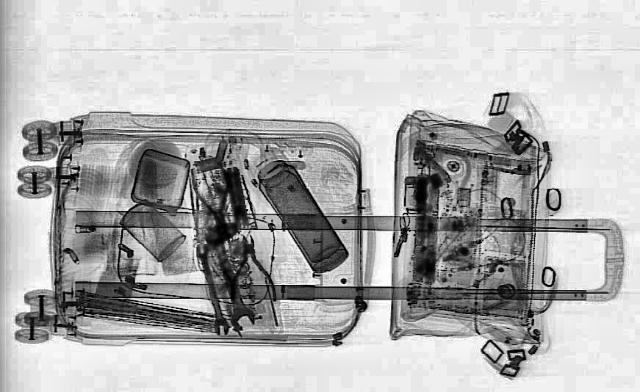Pliers: (212, 233, 278, 303), (188, 165, 244, 239)
Wrench: (203, 234, 257, 330), (192, 242, 232, 336)
